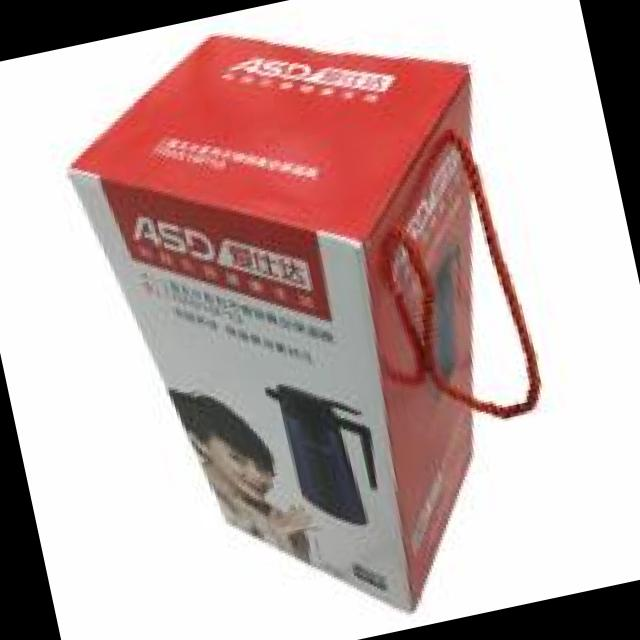box: (64, 33, 475, 617)
